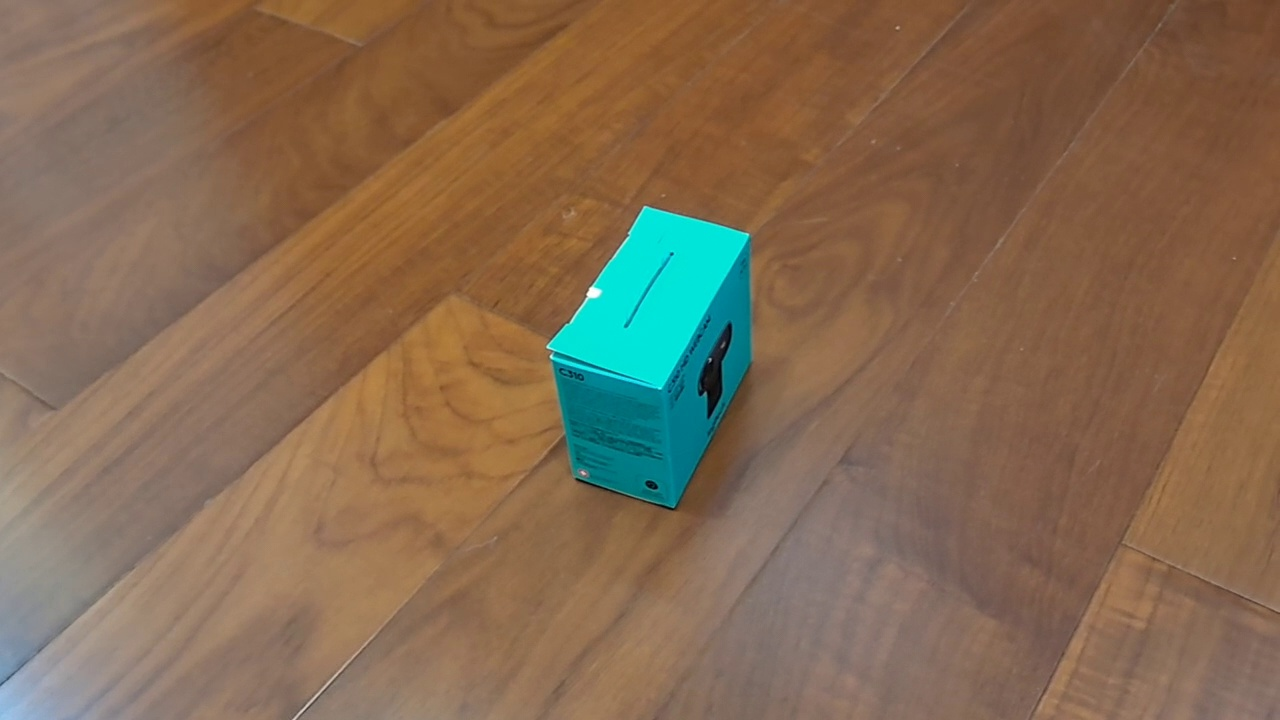webcam: (545, 204, 754, 511)
